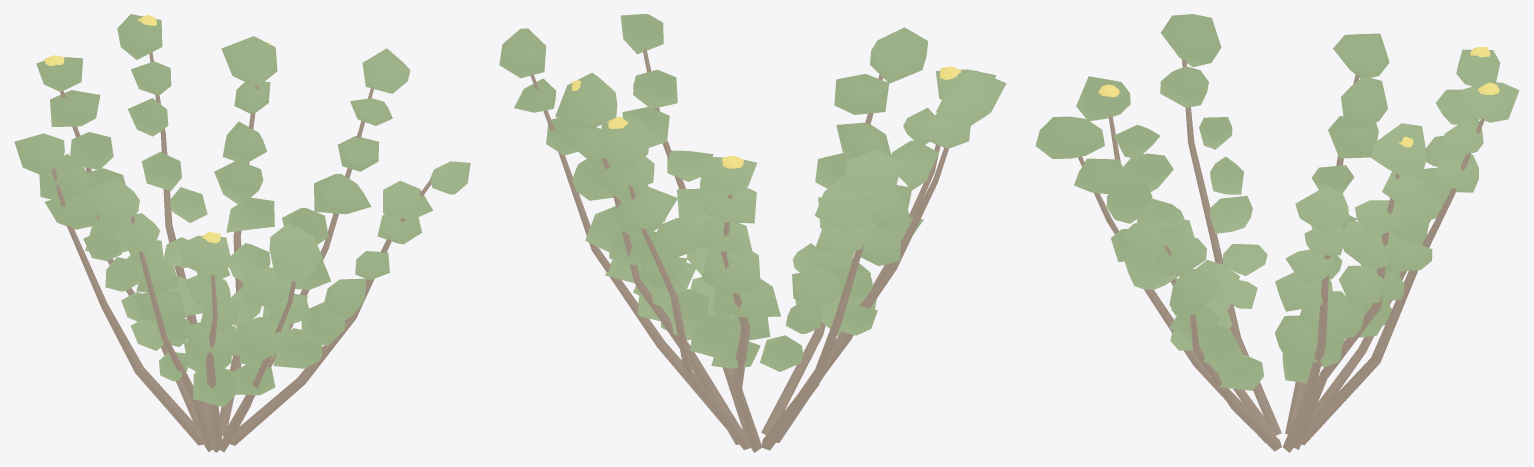
The model's file is Blender_Creosote_1.glb.
3 views of the same model, side by side, from view 1: azimuth 30°, elevation 25°; view 2: azimuth 150°, elevation 25°; view 3: azimuth 270°, elevation 25° (orthographic). The views are drawn at different scales.
Visible parts, largest first — view 1: Blender_Creosote_1; view 2: Blender_Creosote_1; view 3: Blender_Creosote_1.
Boxes of the visible parts, x1,y1,x2,y2 form: Blender_Creosote_1: [14, 14, 470, 452]; Blender_Creosote_1: [499, 14, 1006, 452]; Blender_Creosote_1: [1035, 14, 1519, 452].
Bounding box in the file's own units: 2.03 × 1.84 × 2.14.
